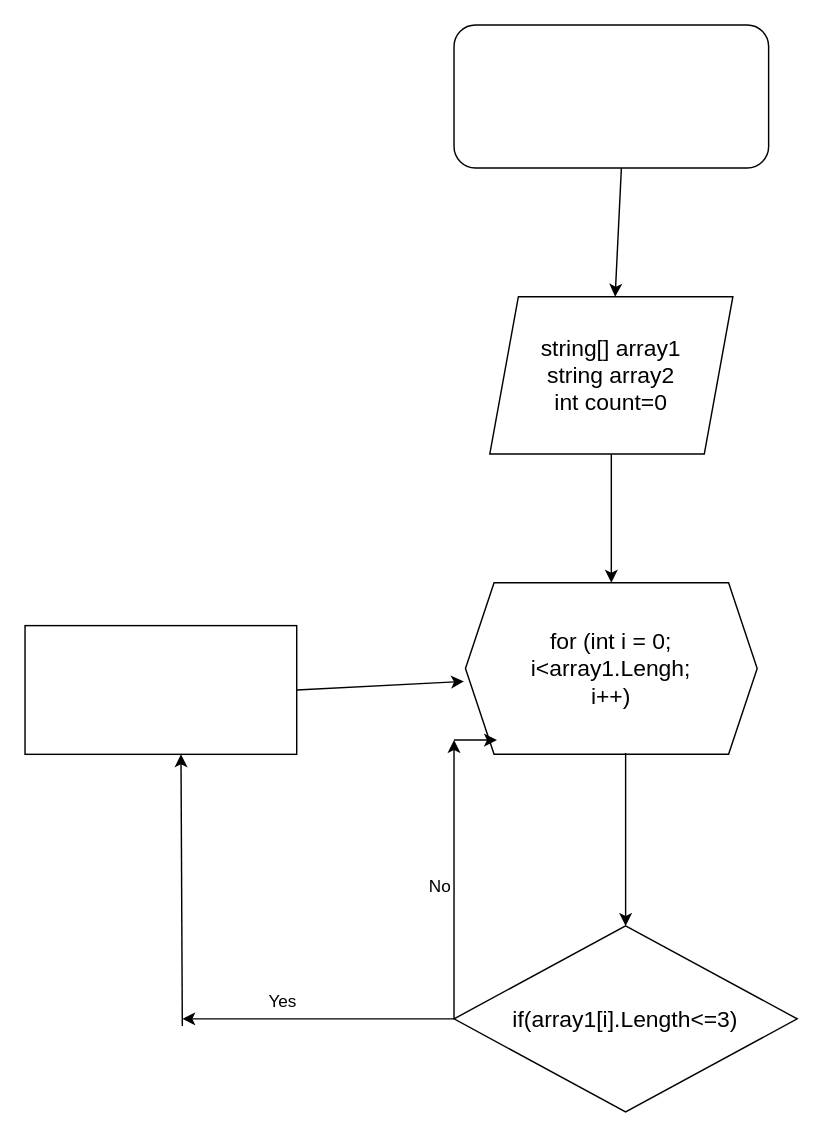
The diagram is 822 pixels wide and 1137 high, and some of its shapes have lost their labels. The centre of each missing label's shape, as x and y in pixels:
"array2[count]=array1[i] count++;" belongs at (x=160, y=689).
"ChangeArr" belongs at (x=611, y=96).
